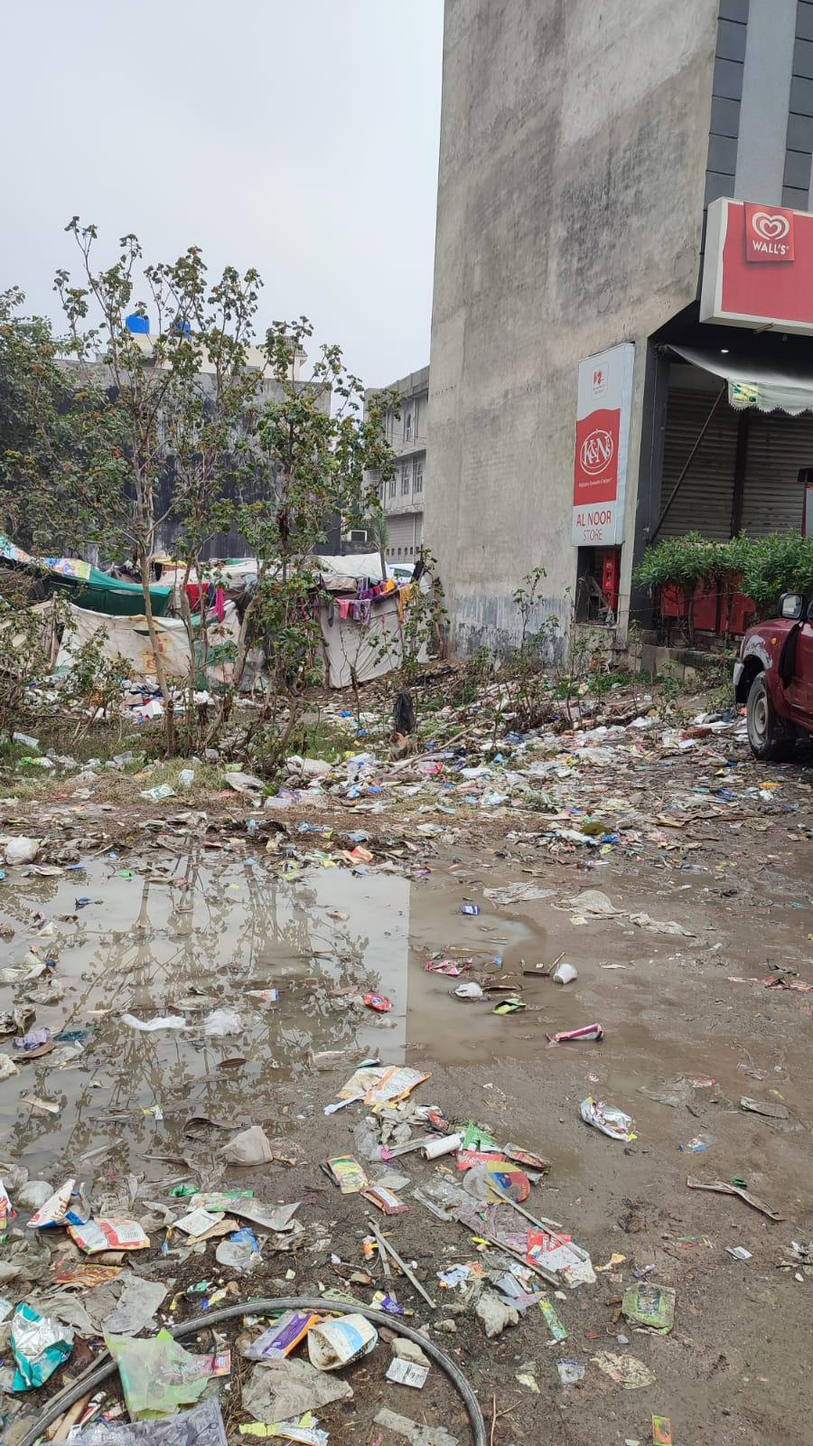garbage: (10, 1049, 644, 1446), (194, 696, 796, 873)
